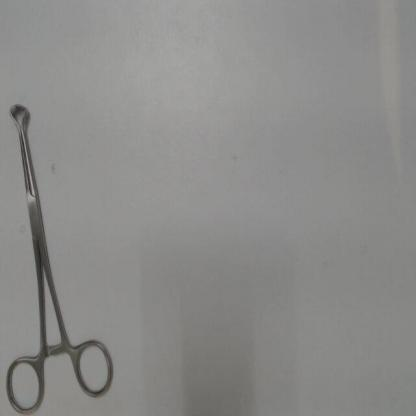Babcock Tissue Forceps: (2, 92, 118, 414)
